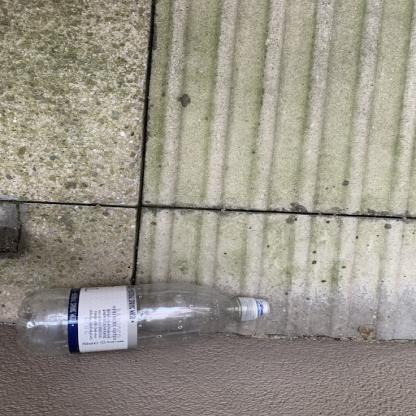trash: (17, 278, 274, 360)
